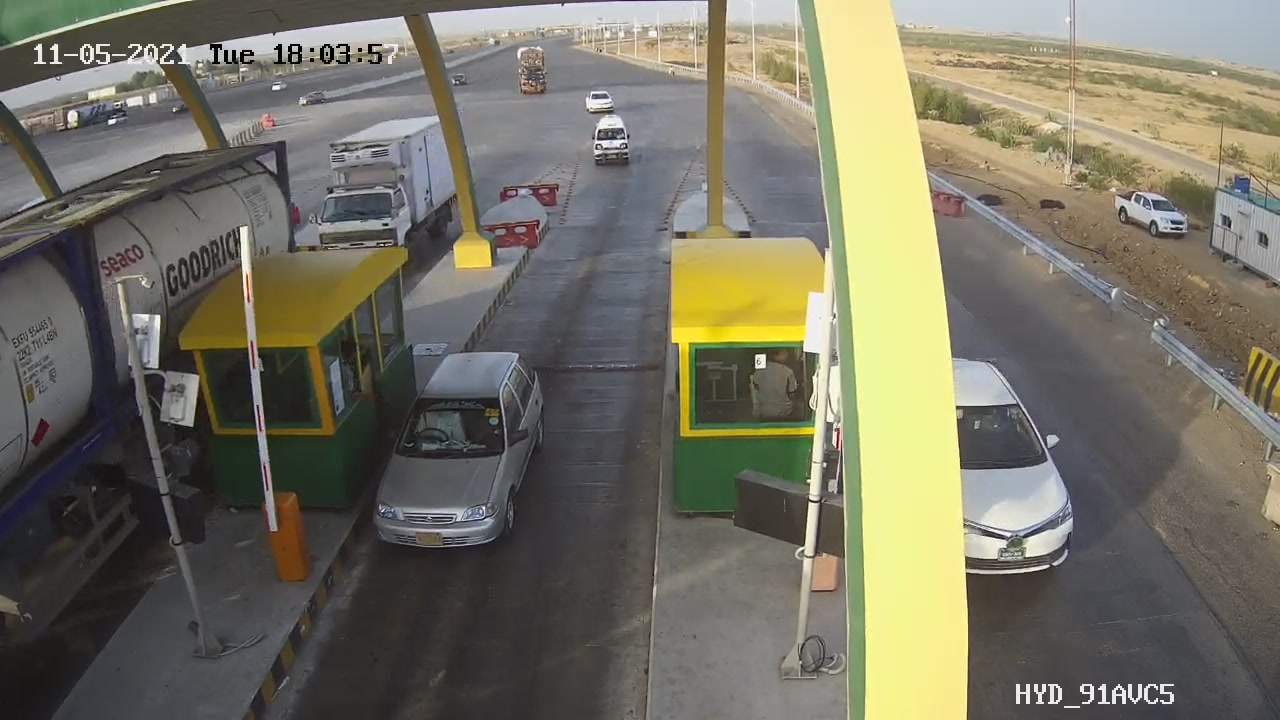F1: (344, 328, 568, 572)
